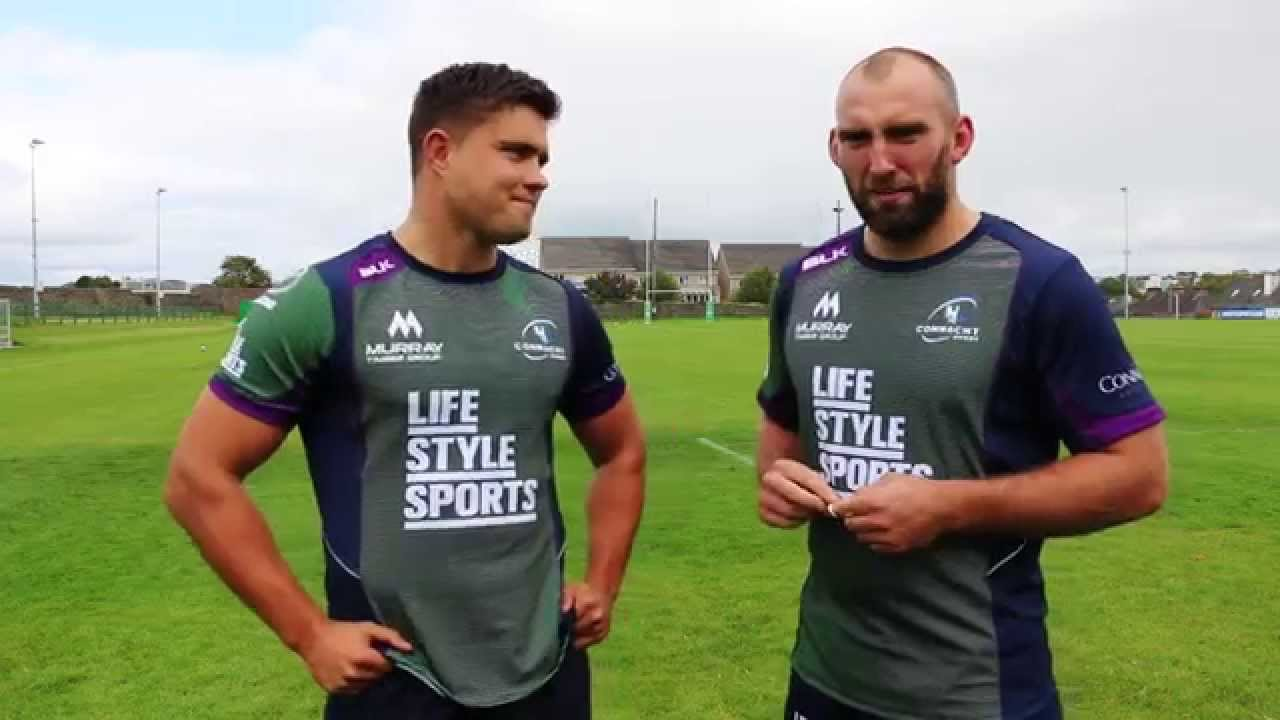player: (280, 54, 628, 713), (787, 42, 1101, 709)
